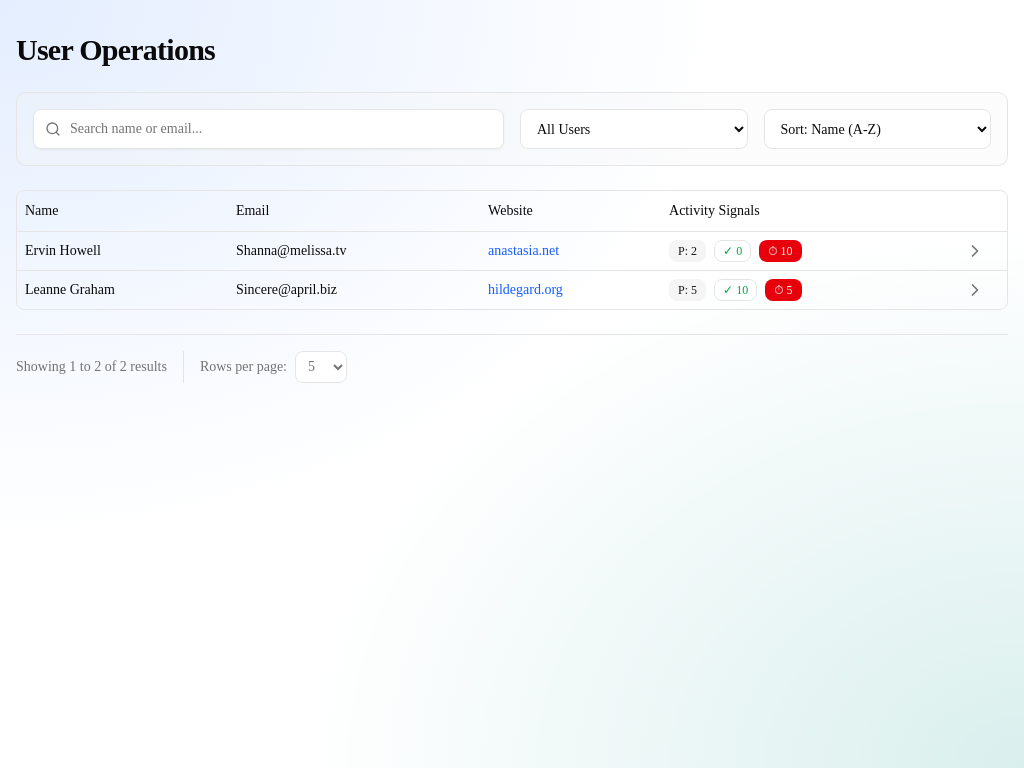
Scenario: UsersClient › shows empty state when no users match filter
The image size is (1024, 768).
Type "nonexistent user" into the field with placeholder "Search name or email..." at (268,129), box [33, 109, 504, 149]
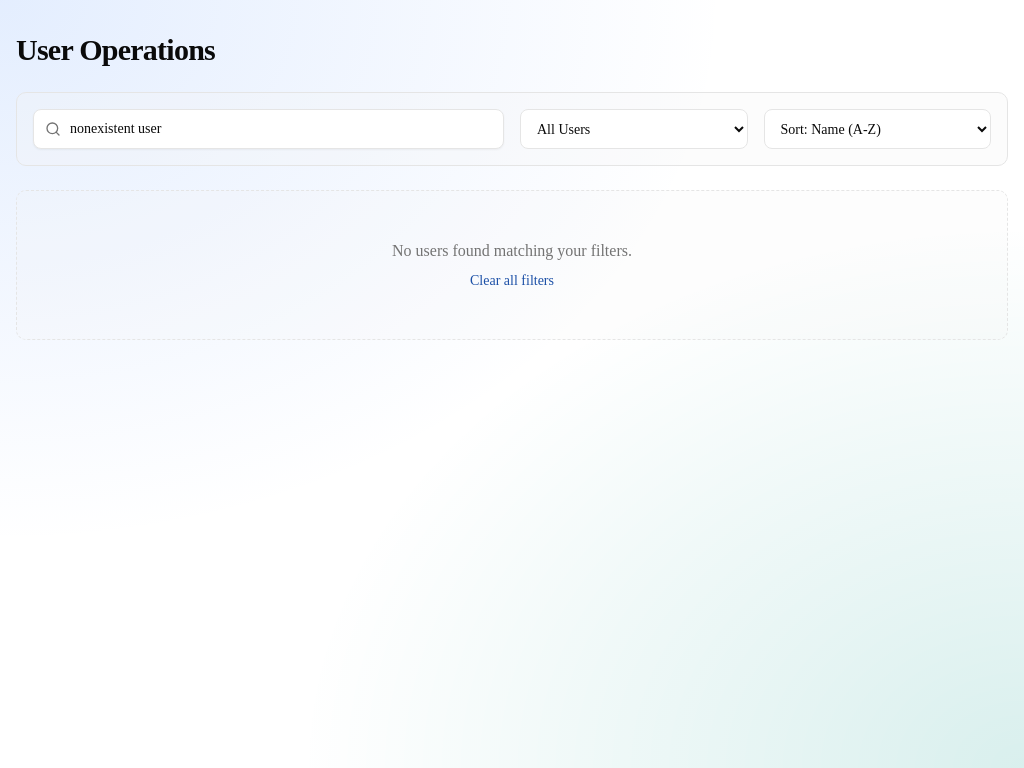
Check: the text "No users found matching your filters." is shown, box [392, 239, 632, 263]
